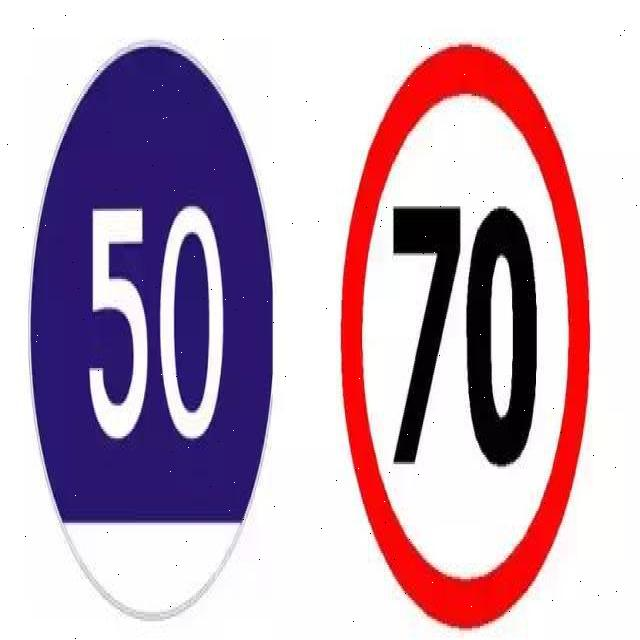speed limit 50: (30, 43, 275, 623)
speed limit 70: (339, 41, 590, 633)
